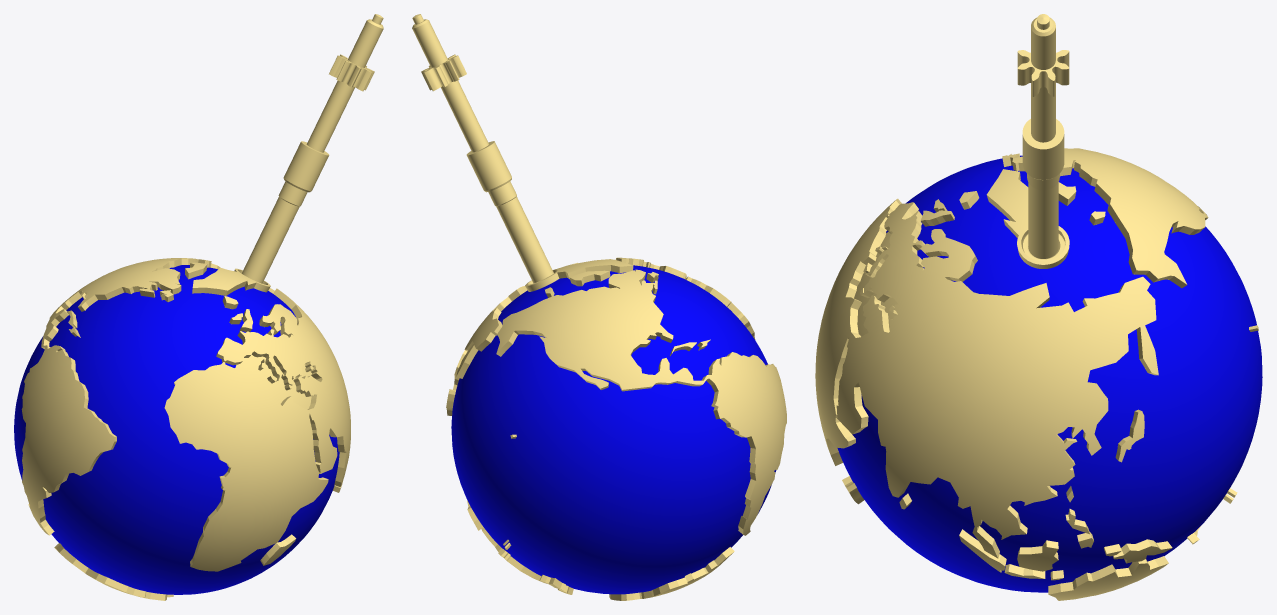
Rendered from globe_yellow_gold.glb.
3 renders of one model, left to right at view 1: azimuth 30°, elevation 25°; view 2: azimuth 150°, elevation 25°; view 3: azimuth 270°, elevation 25°, orthographic. The views are drawn at different scales.
Parts seen in each view (by area): view 1: astronomia:NONE.006, astronomia:Importée1.202; view 2: astronomia:NONE.006, astronomia:Importée1.202; view 3: astronomia:NONE.006, astronomia:Importée1.202.
Boxes of the visible parts, <box> form: astronomia:NONE.006: <box>14,258,350,600</box>; astronomia:Importée1.202: <box>242,14,383,283</box>; astronomia:NONE.006: <box>446,257,786,600</box>; astronomia:Importée1.202: <box>412,14,553,283</box>; astronomia:NONE.006: <box>815,148,1262,600</box>; astronomia:Importée1.202: <box>1017,14,1069,258</box>.
Size of the model in its own units: 0.00971 by 0.0138 by 0.00804.
